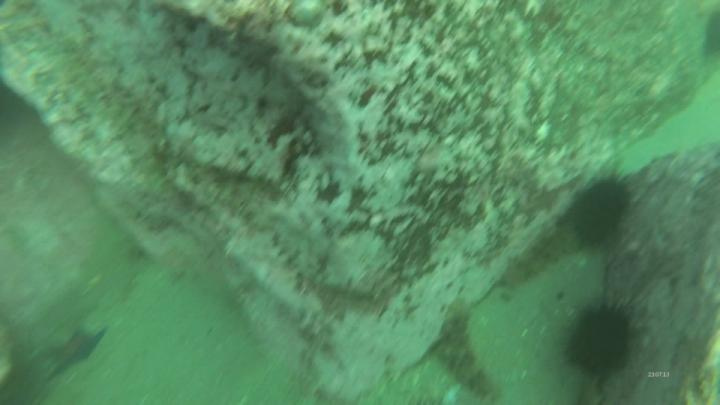echinus: (567, 299, 638, 385), (564, 173, 633, 251)
holothurian: (438, 308, 506, 405), (493, 227, 576, 288)
starfish: (45, 319, 111, 383)
